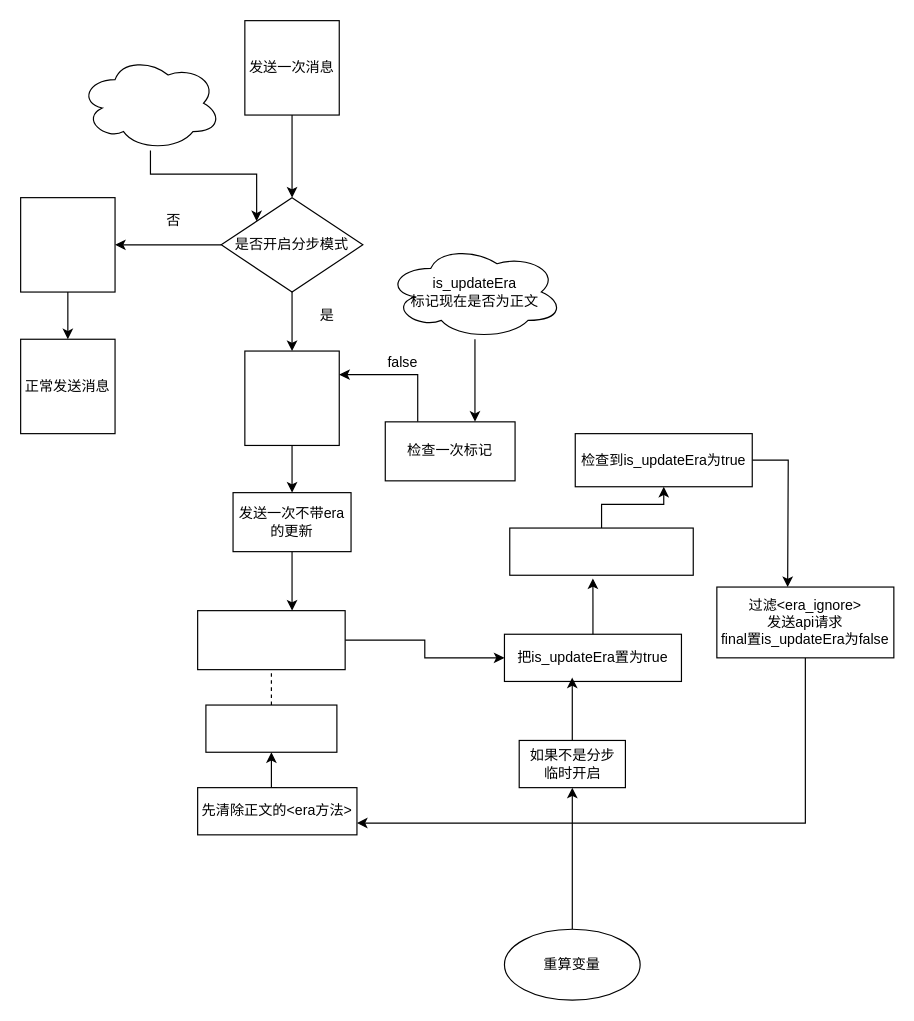
Some shapes in this 914 by 1021 pixel diagram are drawn without their labels. The centre of each missing label's shape, as x and y in pixels:
"is_async标记 是否为分步" belongs at [149,102].
"准备处理era事件" belongs at [601,551].
"合并消息到正文" belongs at [271,728].
"接收到正文 且is_updateEra为false" belongs at [270,639].
"过滤掉 <era_analyze>" belongs at [67,244].
"过滤掉 <era_update>" belongs at [291,397].
